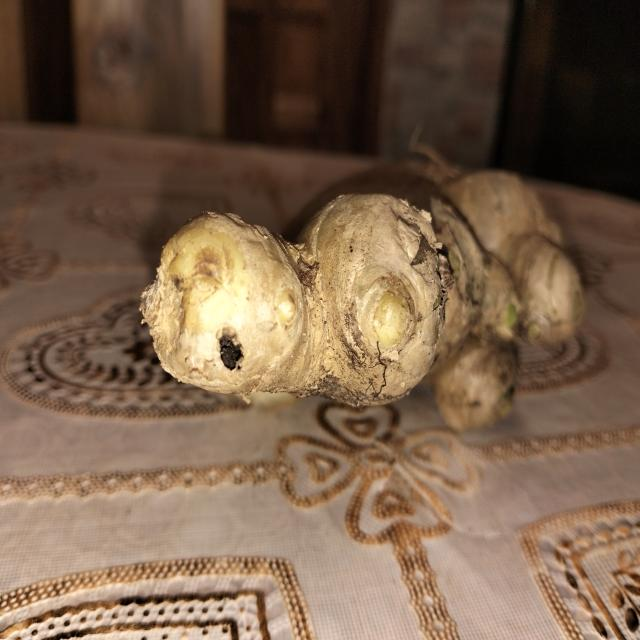ginger: (124, 138, 608, 461)
